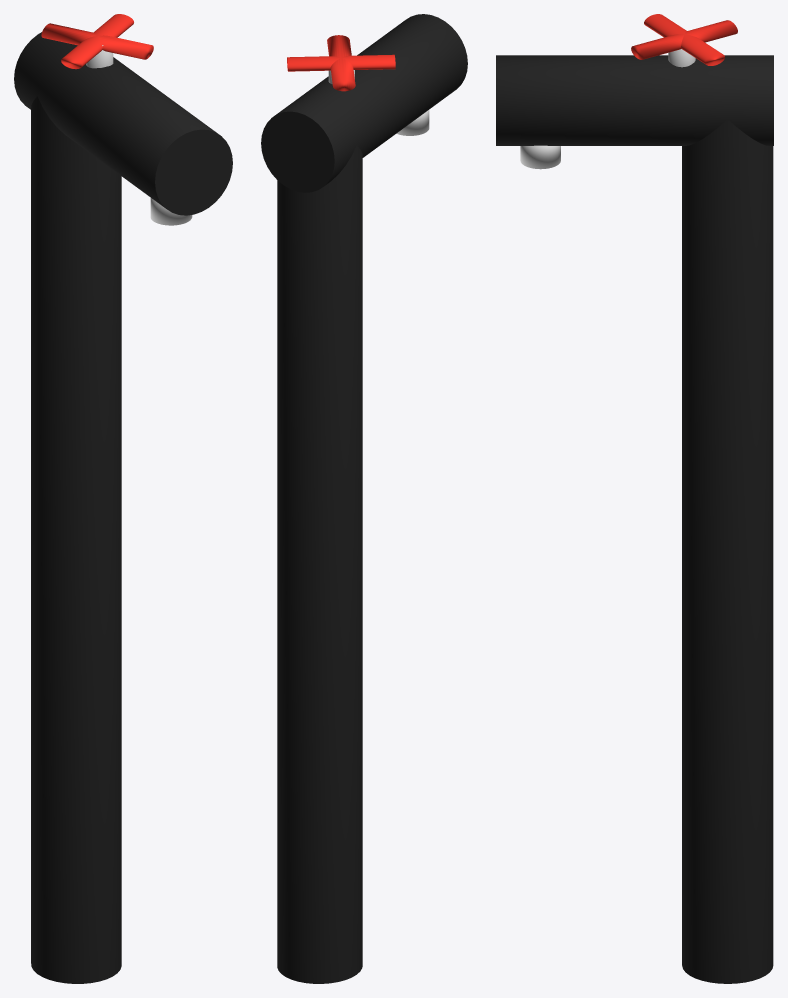
The model's file is hot_water_dispenser.glb.
3 renders of one model, left to right at view 1: azimuth 30°, elevation 25°; view 2: azimuth 150°, elevation 25°; view 3: azimuth 270°, elevation 25°, orthographic. The views are drawn at different scales.
Visible parts, largest first — view 1: Cylinder, Cylinder.001, Cylinder.004, Cylinder.002; view 2: Cylinder, Cylinder.001, Cylinder.004; view 3: Cylinder, Cylinder.001, Cylinder.004, Cylinder.002.
Boxes of the visible parts, <box> form: Cylinder: <box>31,96,121,983</box>; Cylinder.001: <box>14,27,232,215</box>; Cylinder.004: <box>41,14,153,69</box>; Cylinder.002: <box>150,198,192,225</box>; Cylinder: <box>277,145,362,983</box>; Cylinder.001: <box>261,14,467,192</box>; Cylinder.004: <box>287,35,395,91</box>; Cylinder: <box>682,119,773,983</box>; Cylinder.001: <box>496,55,773,145</box>; Cylinder.004: <box>631,14,737,65</box>; Cylinder.002: <box>520,145,560,169</box>.
Bounding box in the file's own units: 0.224 × 2.15 × 0.5821.
